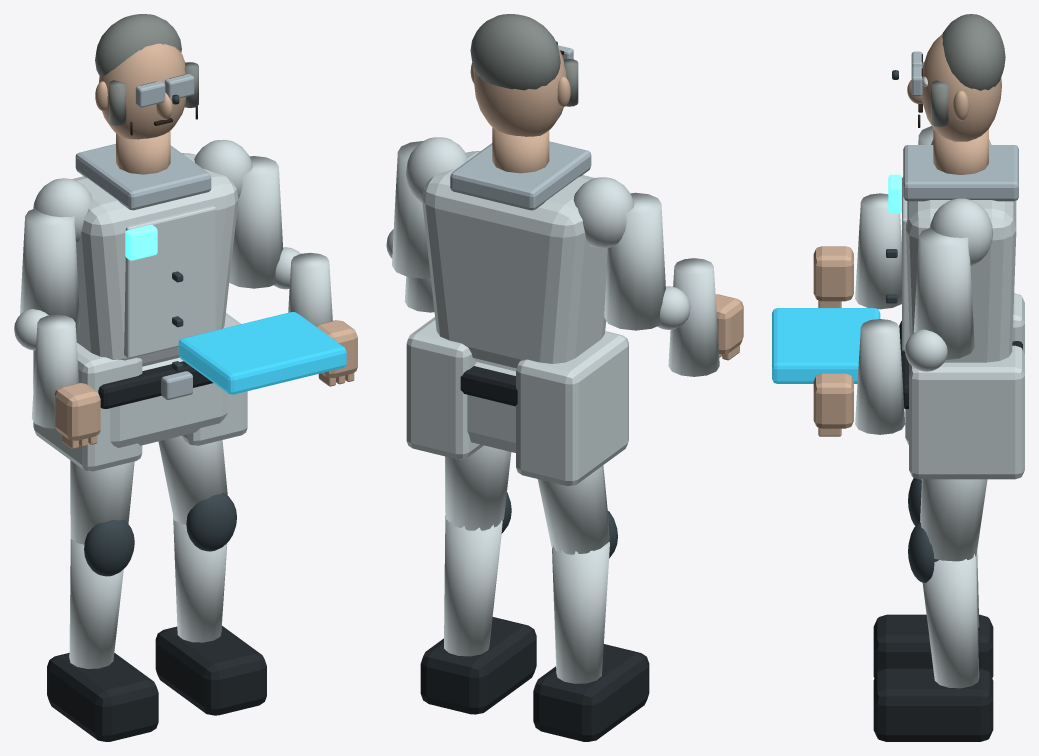
File: crew_research.glb
3 renders of one model, left to right at view 1: azimuth 30°, elevation 25°; view 2: azimuth 150°, elevation 25°; view 3: azimuth 270°, elevation 25°, orthographic. The views are drawn at different scales.
Visible parts, largest first — view 1: Crew_Research_Coat, Crew_Boots, LeftArmPivot_Crew_Research_Coat, RightArmPivot_Crew_Research_Coat, Crew_Screen_Blue, Hangar_Trim_Metal, Hangar_Recess_Metal, HeadPivot_Crew_Light_Skin, HeadPivot_Crew_Research_Grey_Hair, LeftArmPivot_Crew_Light_Skin, Crew_Light_Skin, RightArmPivot_Crew_Light_Skin (+2 smaller); view 2: Crew_Research_Coat, Crew_Boots, LeftArmPivot_Crew_Research_Coat, RightArmPivot_Crew_Research_Coat, HeadPivot_Crew_Research_Grey_Hair, Hangar_Trim_Metal, HeadPivot_Crew_Light_Skin, Crew_Light_Skin, LeftArmPivot_Crew_Light_Skin; view 3: Crew_Research_Coat, RightArmPivot_Crew_Research_Coat, Crew_Boots, Crew_Screen_Blue, Hangar_Trim_Metal, LeftArmPivot_Crew_Research_Coat, HeadPivot_Crew_Research_Grey_Hair, HeadPivot_Crew_Light_Skin, RightArmPivot_Crew_Light_Skin, LeftArmPivot_Crew_Light_Skin, Crew_Light_Skin, Hangar_Recess_Metal (+2 smaller).
Part boxes in pixels (x1,y1,x2,y2): Crew_Research_Coat: [33, 153, 247, 668]; Crew_Boots: [47, 361, 266, 741]; LeftArmPivot_Crew_Research_Coat: [14, 178, 92, 428]; RightArmPivot_Crew_Research_Coat: [194, 139, 332, 325]; Crew_Screen_Blue: [178, 312, 346, 394]; Hangar_Trim_Metal: [75, 144, 211, 399]; Hangar_Recess_Metal: [84, 271, 236, 576]; HeadPivot_Crew_Light_Skin: [95, 43, 185, 139]; HeadPivot_Crew_Research_Grey_Hair: [95, 14, 198, 125]; LeftArmPivot_Crew_Light_Skin: [54, 383, 100, 449]; Crew_Light_Skin: [116, 130, 170, 174]; RightArmPivot_Crew_Light_Skin: [315, 320, 357, 386]; Crew_Research_Coat: [406, 151, 628, 683]; Crew_Boots: [420, 366, 649, 741]; LeftArmPivot_Crew_Research_Coat: [573, 177, 719, 376]; RightArmPivot_Crew_Research_Coat: [386, 137, 467, 312]; HeadPivot_Crew_Research_Grey_Hair: [470, 14, 578, 106]; Hangar_Trim_Metal: [450, 141, 591, 210]; HeadPivot_Crew_Light_Skin: [470, 49, 570, 136]; Crew_Light_Skin: [492, 127, 549, 173]; LeftArmPivot_Crew_Light_Skin: [715, 294, 743, 360]; Crew_Research_Coat: [902, 177, 1024, 688]; RightArmPivot_Crew_Research_Coat: [855, 198, 993, 434]; Crew_Boots: [873, 321, 1022, 741]; Crew_Screen_Blue: [772, 308, 880, 383]; Hangar_Trim_Metal: [903, 145, 1018, 201]; LeftArmPivot_Crew_Research_Coat: [855, 126, 991, 309]; HeadPivot_Crew_Research_Grey_Hair: [931, 14, 1005, 126]; HeadPivot_Crew_Light_Skin: [907, 33, 1001, 141]; RightArmPivot_Crew_Light_Skin: [813, 373, 853, 436]; LeftArmPivot_Crew_Light_Skin: [813, 246, 853, 307]; Crew_Light_Skin: [933, 129, 988, 174]; Hangar_Recess_Metal: [886, 249, 938, 582].
Size of the model in its own units: 0.9 by 1.96 by 0.655.
